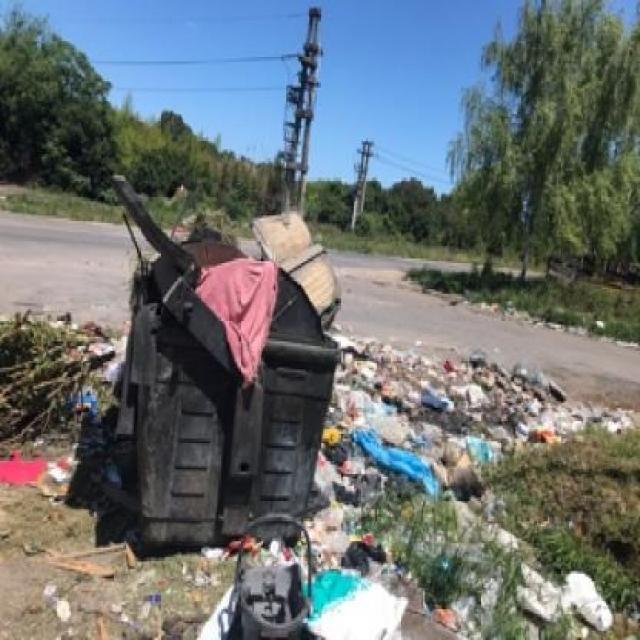garbage: (2, 306, 638, 638), (112, 171, 346, 320)
